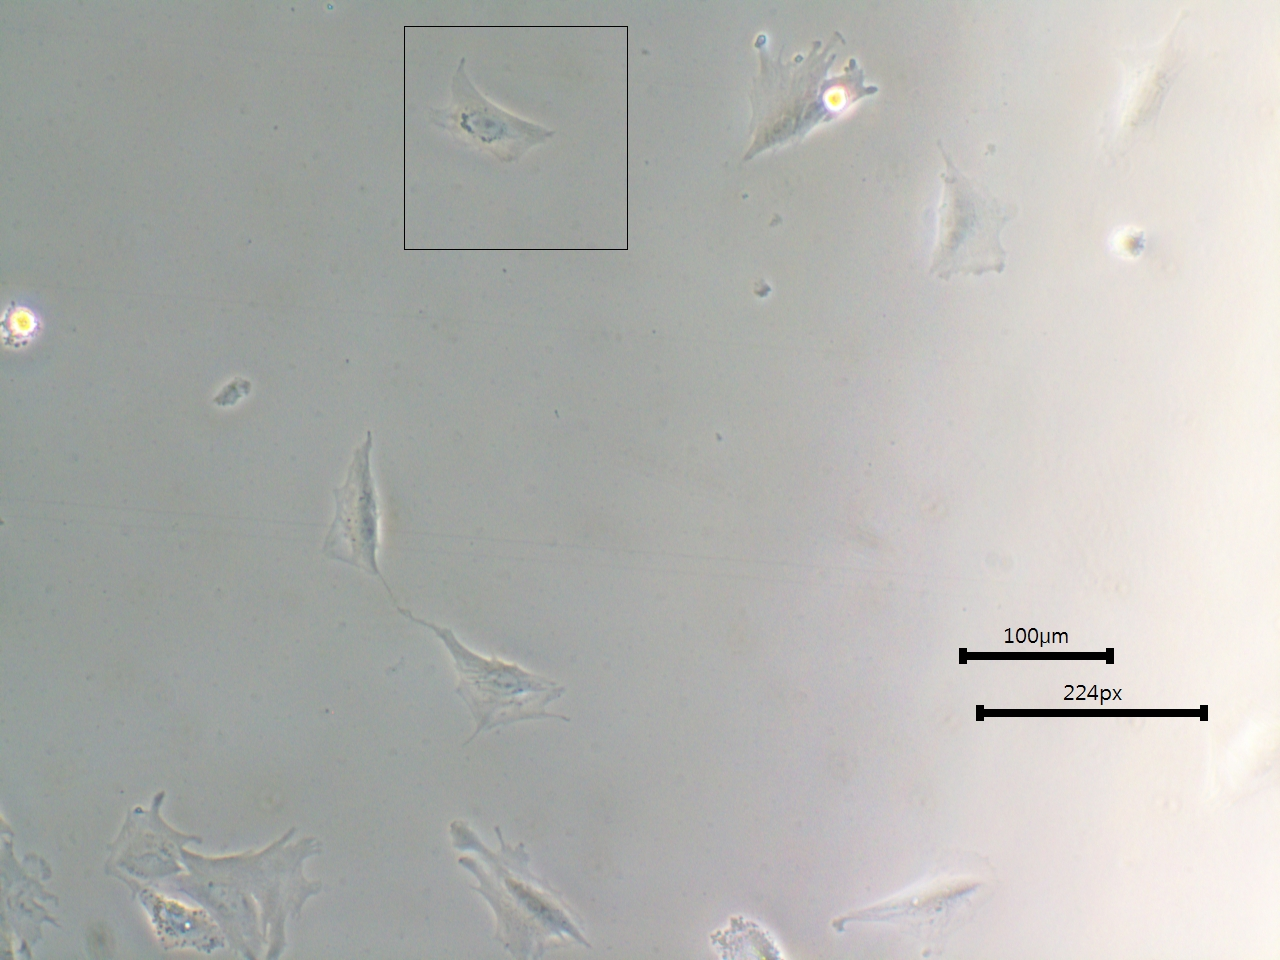dividing: (714, 31, 886, 194)
medium-polygonal: (824, 840, 1013, 960), (447, 817, 602, 960), (423, 57, 558, 187), (314, 433, 392, 595)
medium-spread: (393, 614, 582, 736), (918, 167, 1014, 291)
